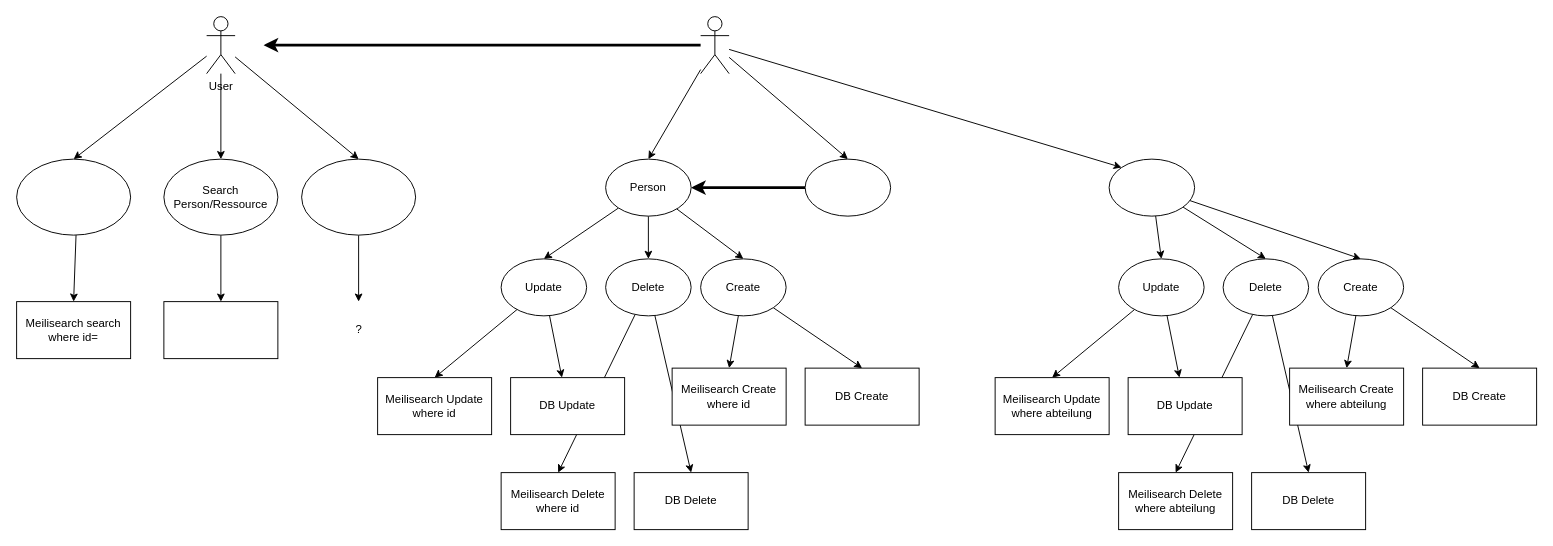
Some shapes in this 1553 by 546 pixel diagram are drawn without their labels. The shapes that lost their labels are listed below. From the top down, each one's box as (x1, y1, x2, y2) in pixels, then its label:
(700, 16, 729, 74): Admin
(16, 158, 131, 235): Show Person/Ressource
(301, 158, 416, 235): Search Abteilung
(804, 158, 891, 216): Ressource
(1108, 158, 1195, 216): Abteilung
(163, 301, 278, 359): Meilisearch search
